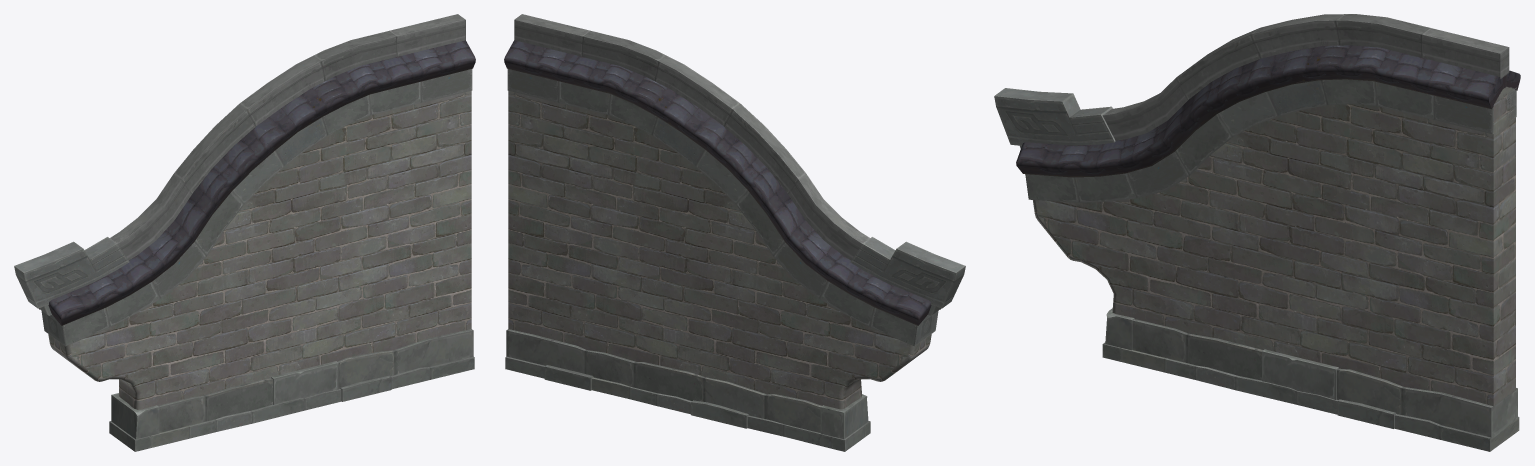
The model's file is Homeworld_Exterior_Cyg_Build_YlbWeiqiang_02_Lod0.fbx.
3 renders of one model, left to right at view 1: azimuth 30°, elevation 25°; view 2: azimuth 150°, elevation 25°; view 3: azimuth 330°, elevation 25°, orthographic. The views are drawn at different scales.
Parts seen in each view (by area): view 1: Area_Cyg_Build_QYZ_Comp_Weiqiang_B_01_Lod0; view 2: Area_Cyg_Build_QYZ_Comp_Weiqiang_B_01_Lod0; view 3: Area_Cyg_Build_QYZ_Comp_Weiqiang_B_01_Lod0.
Boxes of the visible parts, <box> form: Area_Cyg_Build_QYZ_Comp_Weiqiang_B_01_Lod0: <box>14,14,475,451</box>; Area_Cyg_Build_QYZ_Comp_Weiqiang_B_01_Lod0: <box>504,14,965,451</box>; Area_Cyg_Build_QYZ_Comp_Weiqiang_B_01_Lod0: <box>994,14,1520,451</box>.
Size of the model in its own units: 6.5 by 4.81 by 0.7622.
